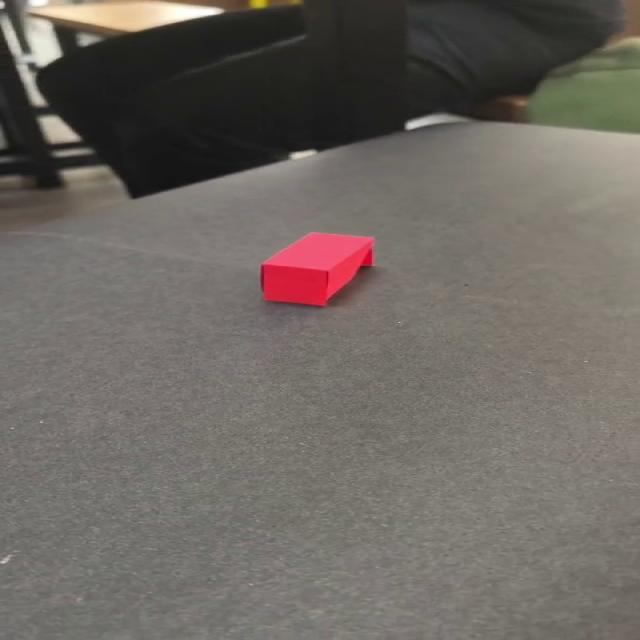red block: (258, 230, 374, 307)
